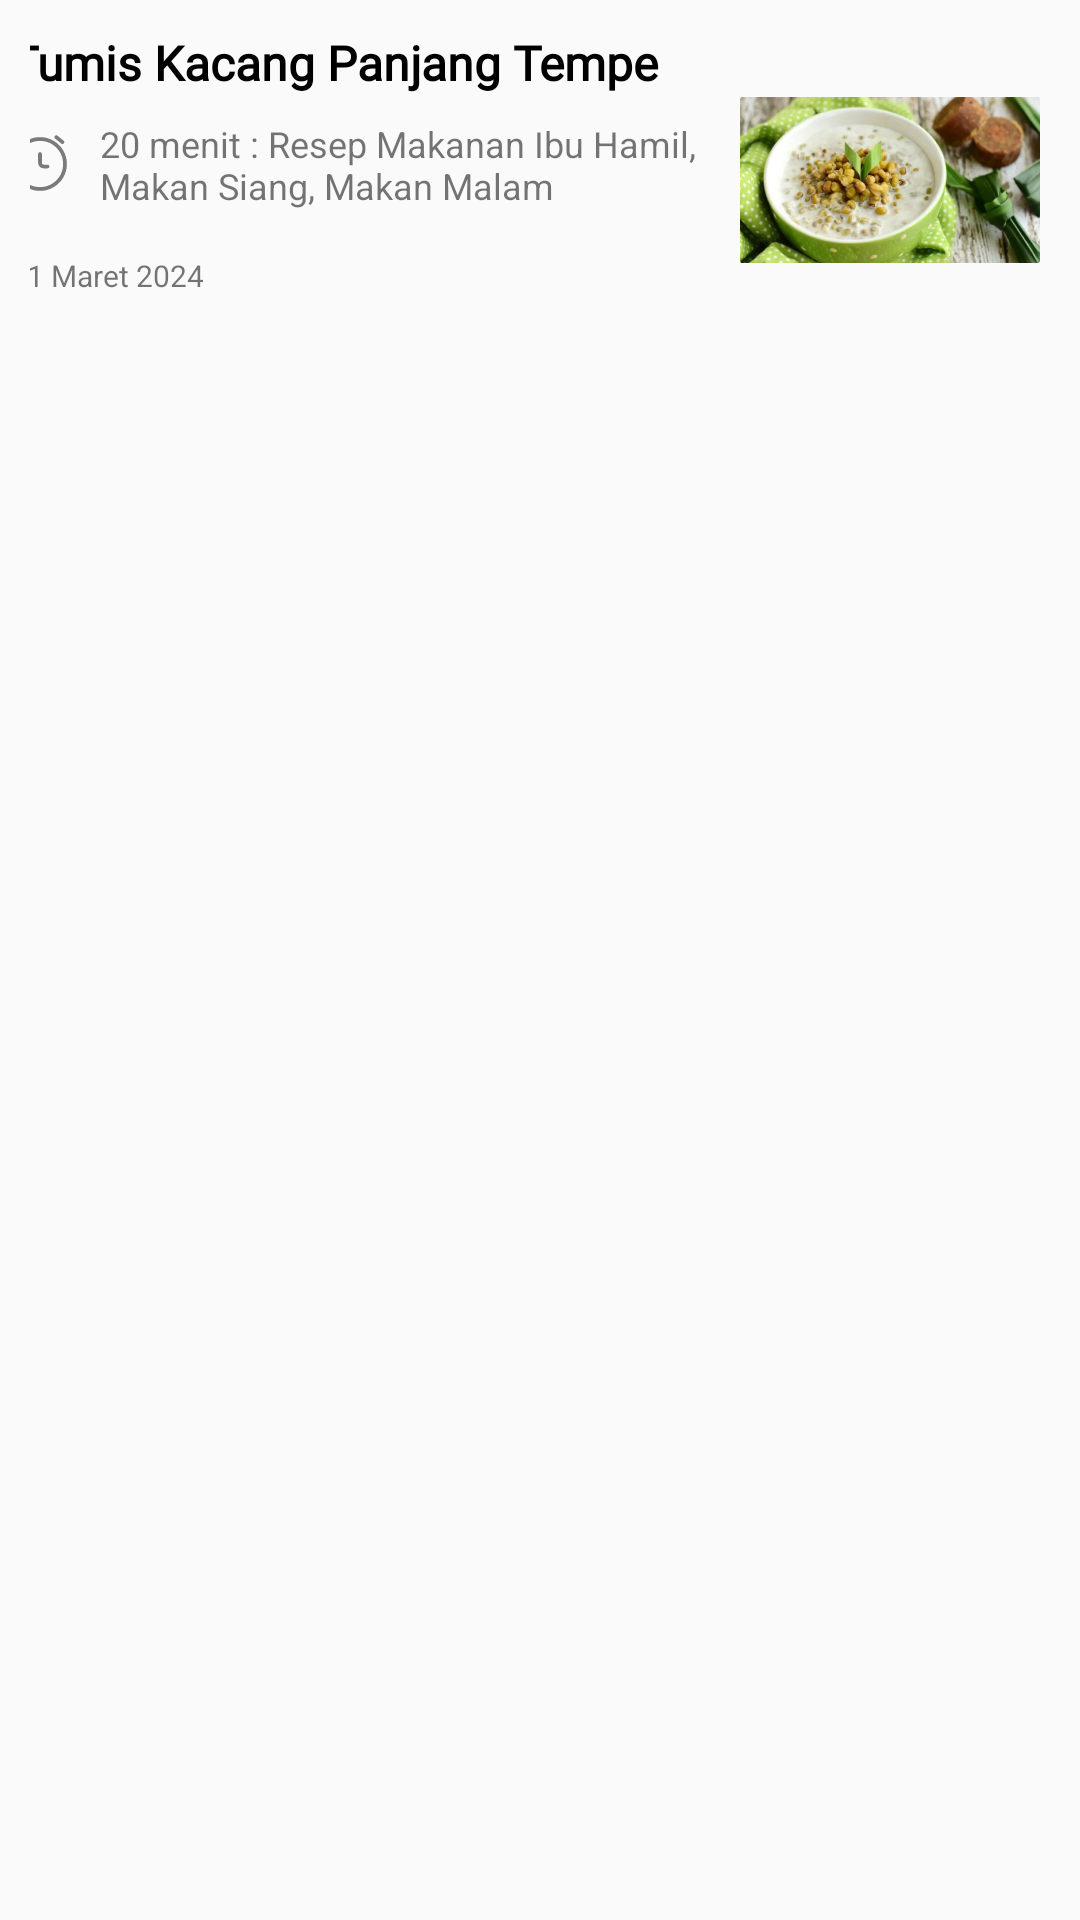

Icons on this 1080 x 1920 Android screen, each with the point to tap as [x,y]:
asupanibu sayur: [890,180]
